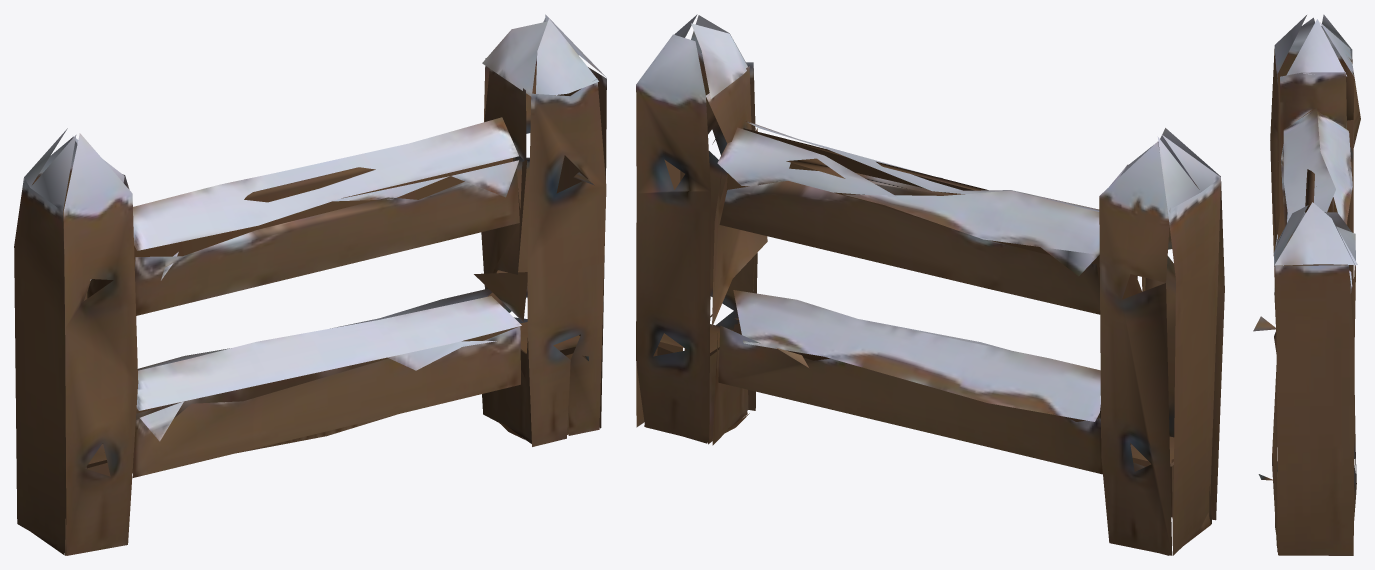
The model's file is fence_gen_a.glb.
The picture shows the model from 3 angles, left to right: view 1: azimuth 30°, elevation 25°; view 2: azimuth 150°, elevation 25°; view 3: azimuth 270°, elevation 25°; orthographic projection. The views are drawn at different scales.
Visible parts, largest first — view 1: fence_gen; view 2: fence_gen; view 3: fence_gen.
Part boxes in pixels (x1=…): fence_gen: x1=14, y1=14, x2=606, y2=555; fence_gen: x1=636, y1=14, x2=1224, y2=555; fence_gen: x1=1253, y1=14, x2=1360, y2=555.
Bounding box in the file's own units: 1.98 × 1.41 × 0.4041.
1 material, 1 textured.
